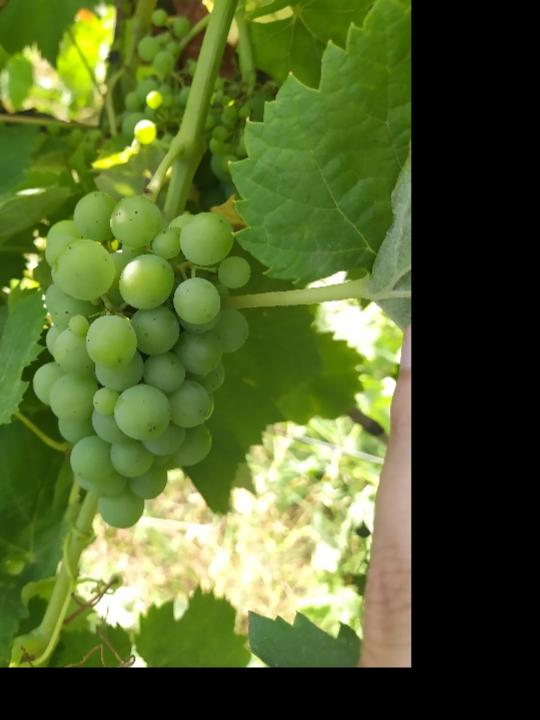grape: (30, 188, 252, 531)
